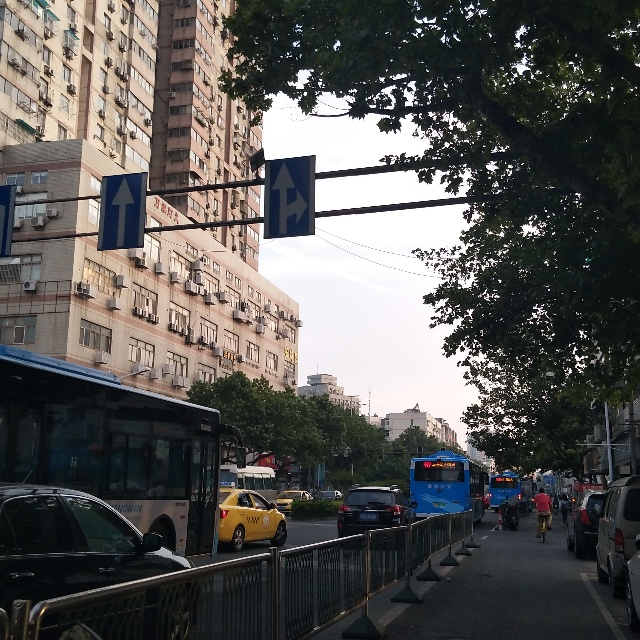straight: (96, 173, 150, 255)
